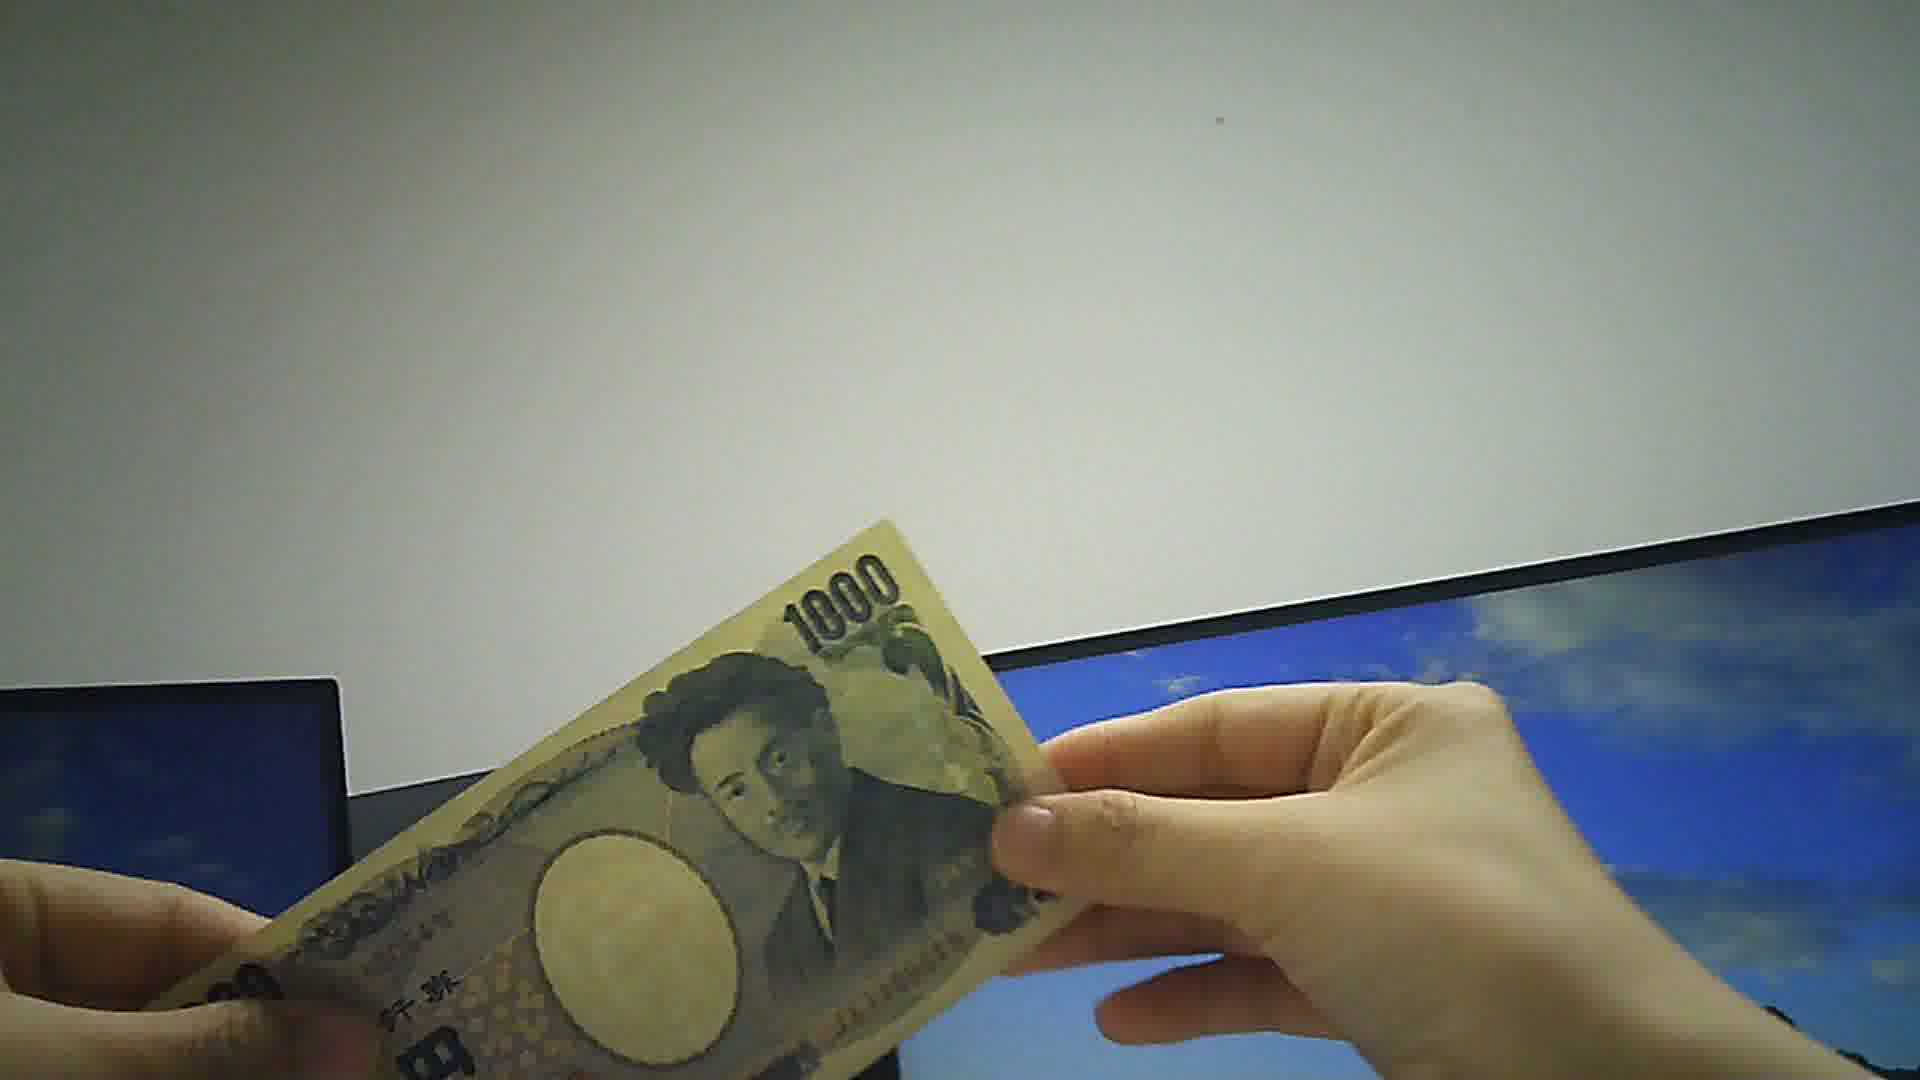1,000 Yen: (170, 531, 1101, 1079)
